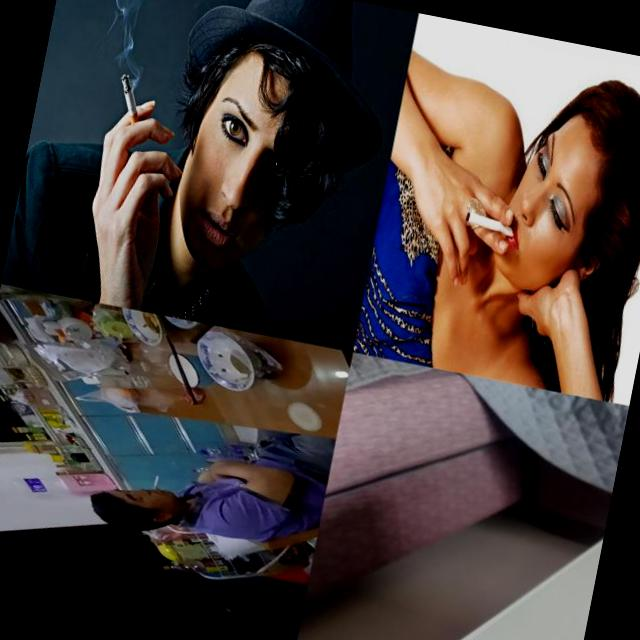smoke: (108, 68, 150, 135), (464, 210, 517, 236), (152, 475, 158, 490)
